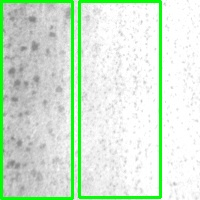pitted_surface: (79, 1, 160, 197), (1, 1, 72, 198)
